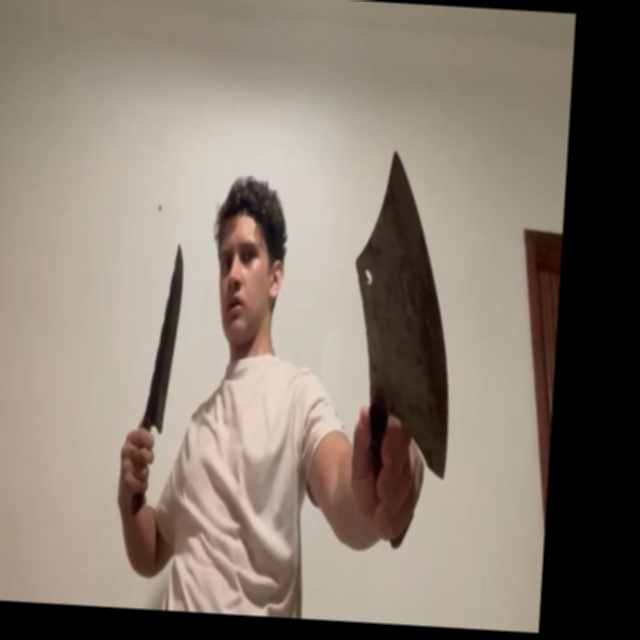Sharp-Object: (342, 148, 465, 476), (144, 243, 186, 433)
